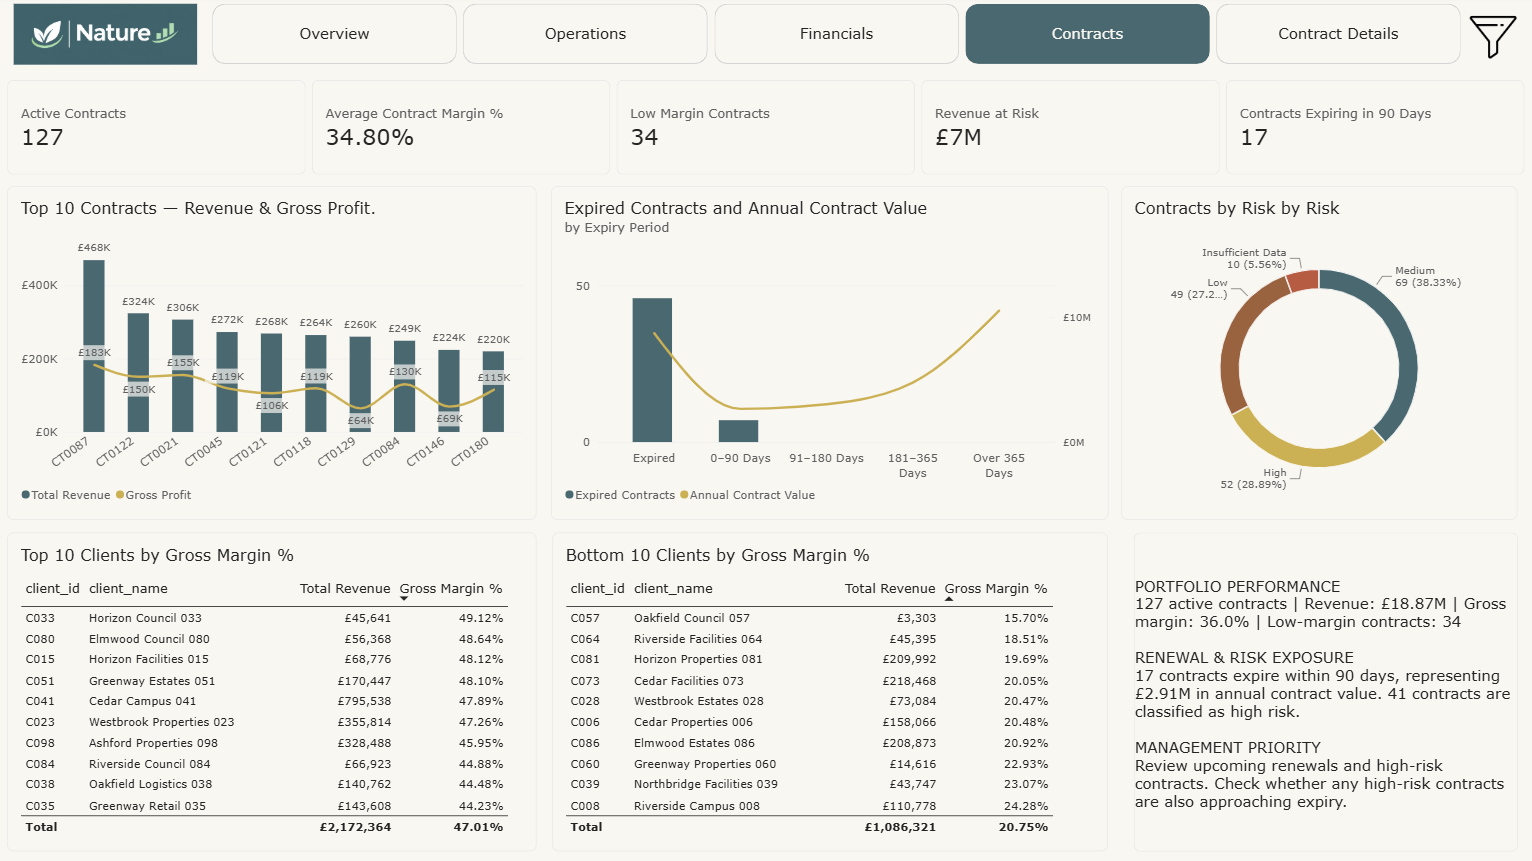

This screenshot's page, from the dashboard's own definition file:
{"tool":"powerbi","page":{"name":"Contracts","canvas":[1920,1080],"ordinal":4},"visuals":[{"type":"cardVisual","fields":{"Data":["Operational measures.Active Contracts","Operational measures.Average Contract Margin %","Operational measures.Low Margin Contracts","Financial measures.Revenue at Risk","Operational measures.Contracts Expiring in 90 Days"]},"box":[14.1,106.7,1894.2,118.8],"z":0},{"type":"tableEx","title":"Top 10 Clients by Gross Margin %","fields":{"Values":["dim_clients.client_id","dim_clients.client_name","Financial measures.Total Revenue","Financial measures.Gross Margin %"]},"box":[13.3,670,660,398],"z":1000},{"type":"tableEx","title":"Bottom 10 Clients by Gross Margin %","fields":{"Values":["dim_clients.client_id","dim_clients.client_name","Financial measures.Total Revenue","Financial measures.Gross Margin %"]},"box":[693.2,670,693.2,398],"z":2000},{"type":"image","box":[1838.3,18.3,58.3,68.3],"z":3000},{"type":"pageNavigator","box":[269,11.6,1558.6,75.6],"z":4000},{"type":"donutChart","fields":{"Category":["Contract Risk Categories.Risk"],"Y":["04. Risk measures.Contracts by Risk"]},"box":[1402.9,238.8,494.2,416.2],"z":5000},{"type":"lineClusteredColumnComboChart","title":"Top 10 Contracts — Revenue & Gross Profit.","fields":{"Category":["dim_contracts.contract_id"],"Y":["Financial measures.Total Revenue"],"Y2":["Financial measures.Gross Profit"]},"box":[13.3,238.8,660,416.2],"z":6000},{"type":"lineClusteredColumnComboChart","fields":{"Category":["dim_contracts.Expiry Period"],"Y":["Operational measures.Contracts Expiring"],"Y2":["Operational measures.Annual Contract Value"]},"box":[691.5,238.8,694.8,416.2],"z":7000},{"type":"cardVisual","title":"Financial Exceptions & Actions","fields":{"Data":["Dynamic measures.Contracts Insight"]},"box":[1402.3,669.9,495.3,398.5],"z":8000},{"type":"image","box":[14,10.9,244.7,76.4],"z":10000}]}

Visuals, with their boxes in screenshot pixels (x1, y1, x2, y2), scaled from the page's 1920x1080 canvas onto the 1532x861 screenshot:
cardVisual - Operational measures.Active Contracts x Operational measures.Average Contract Margin %: {"x1": 11, "y1": 85, "x2": 1523, "y2": 180}
"Top 10 Clients by Gross Margin %" tableEx: {"x1": 11, "y1": 534, "x2": 537, "y2": 851}
"Bottom 10 Clients by Gross Margin %" tableEx: {"x1": 553, "y1": 534, "x2": 1106, "y2": 851}
image: {"x1": 1467, "y1": 15, "x2": 1513, "y2": 69}
pageNavigator: {"x1": 215, "y1": 9, "x2": 1458, "y2": 70}
donutChart - Contract Risk Categories.Risk x 04. Risk measures.Contracts by Risk: {"x1": 1119, "y1": 190, "x2": 1514, "y2": 522}
"Top 10 Contracts — Revenue & Gross Profit." lineClusteredColumnComboChart: {"x1": 11, "y1": 190, "x2": 537, "y2": 522}
lineClusteredColumnComboChart - dim_contracts.Expiry Period x Operational measures.Contracts Expiring: {"x1": 552, "y1": 190, "x2": 1106, "y2": 522}
"Financial Exceptions & Actions" cardVisual: {"x1": 1119, "y1": 534, "x2": 1514, "y2": 852}
image: {"x1": 11, "y1": 9, "x2": 206, "y2": 70}
